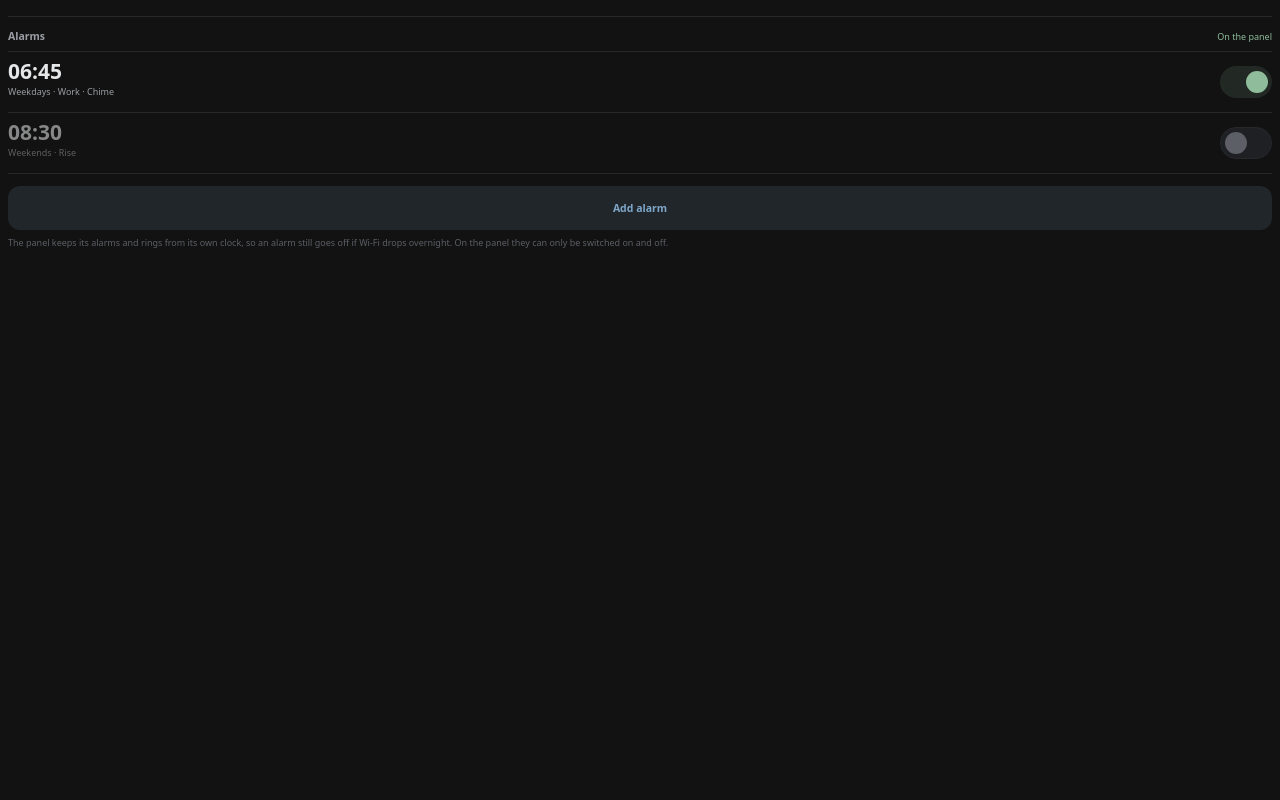
Test: the desk panel's alarms › refuses a label the panel cannot draw before it is sent
The image size is (1280, 800).
Click the button with aria-label "Edit alarm 06:45".
click(35, 71)  # box [8, 60, 1208, 104]
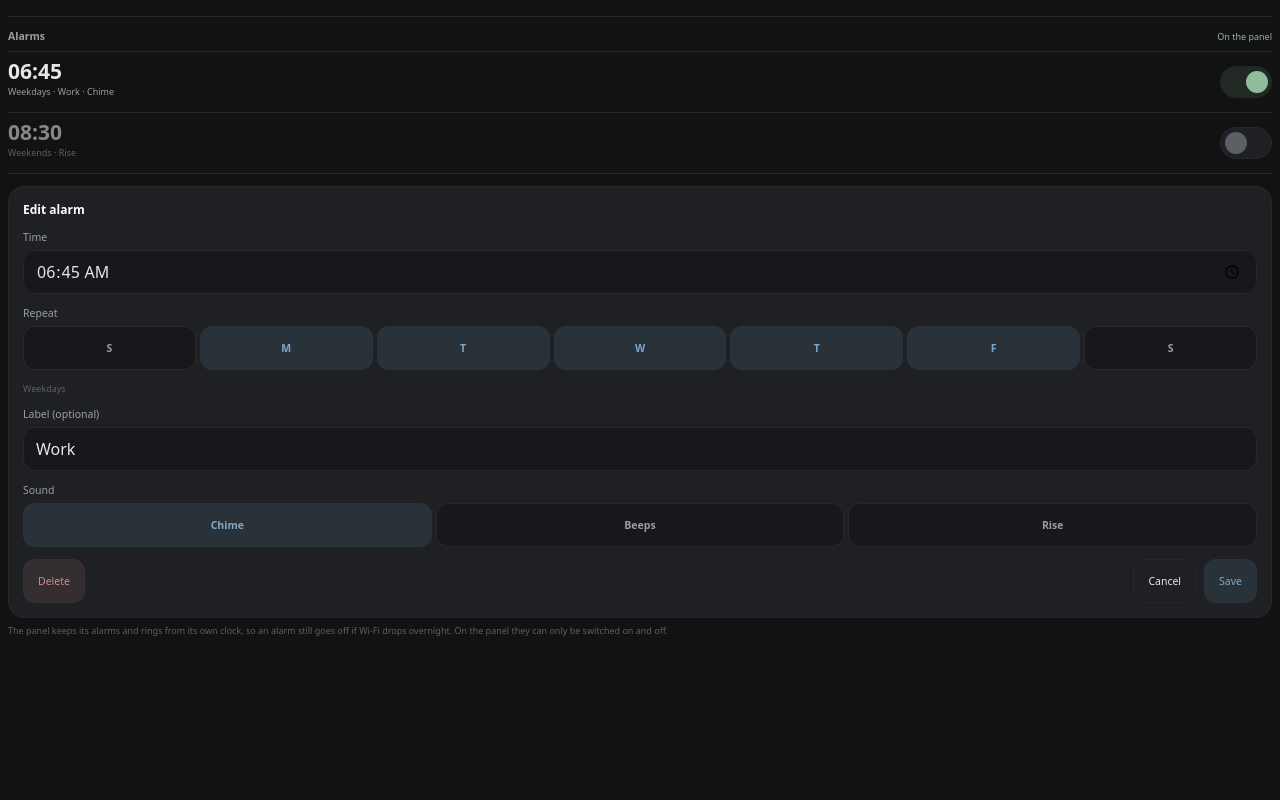
Type "Café" into the field labelled "Label (optional)".
click(640, 449); type("Café")  # box [23, 427, 1257, 471]
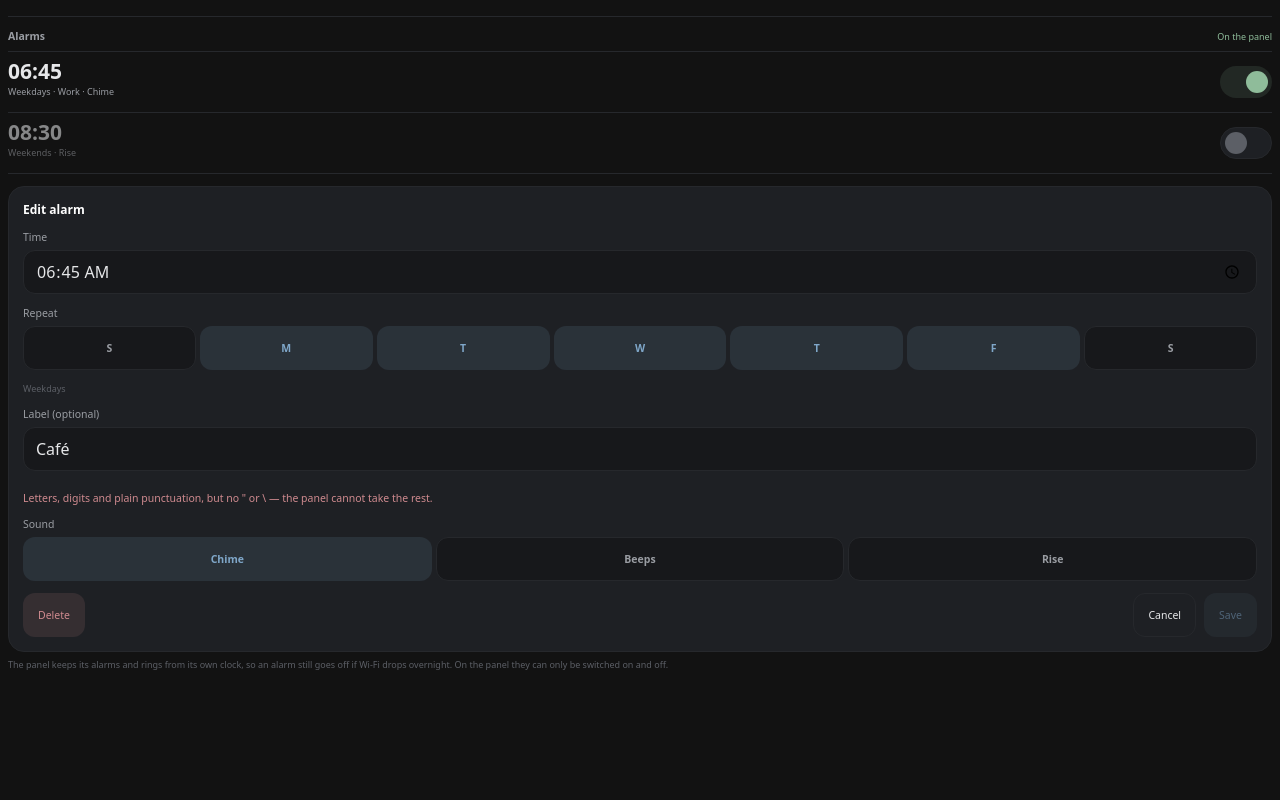
Expected: the text "the panel cannot take the rest" is shown, [23, 491, 433, 505]
Expected: the button "Save" is disabled, [1204, 593, 1257, 637]
Replace the text in the field labelled "Label (optional)" with "say \"hi\"" at {"x": 640, "y": 449}, box [23, 427, 1257, 471]
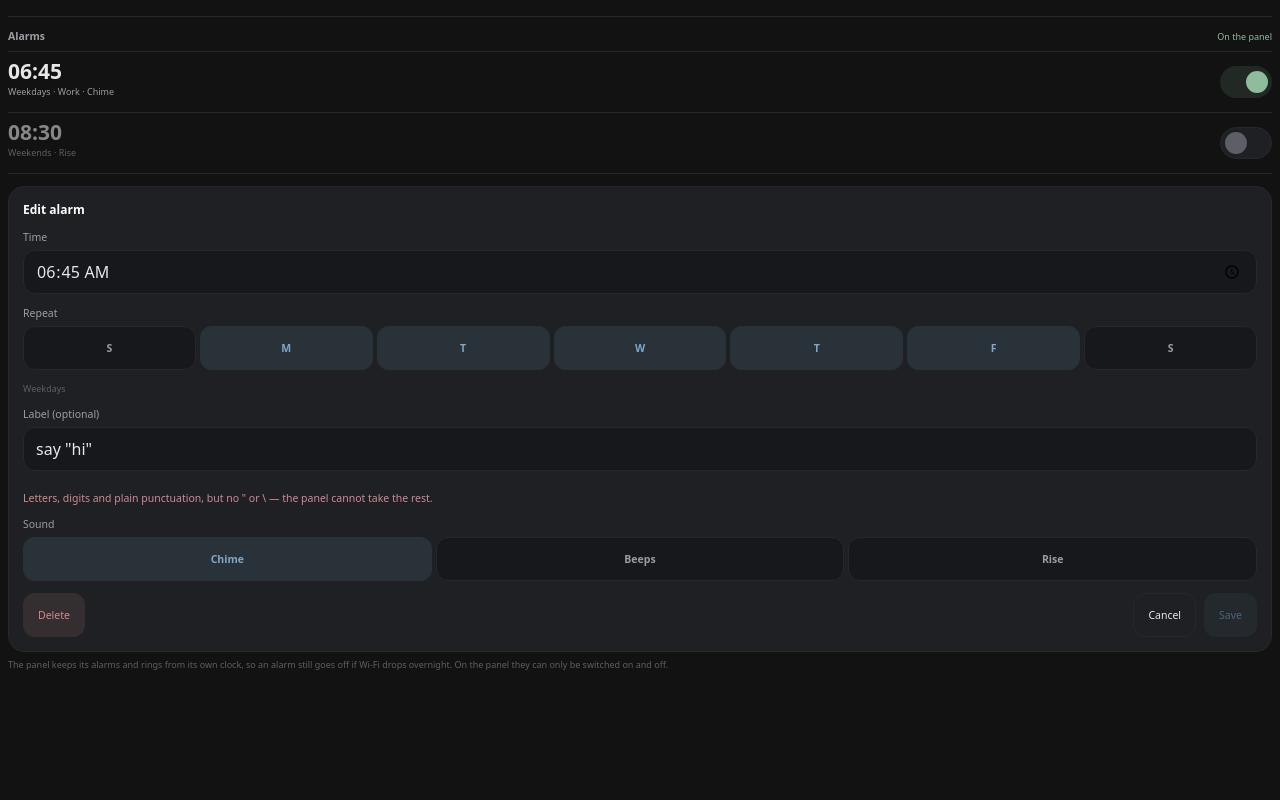
Expected: the text "the panel cannot take the rest" is shown, [23, 491, 433, 505]
Expected: the button "Save" is disabled, [1204, 593, 1257, 637]
Replace the text in the field labelled "Label (optional)" with "back\\slash" at {"x": 640, "y": 449}, box [23, 427, 1257, 471]
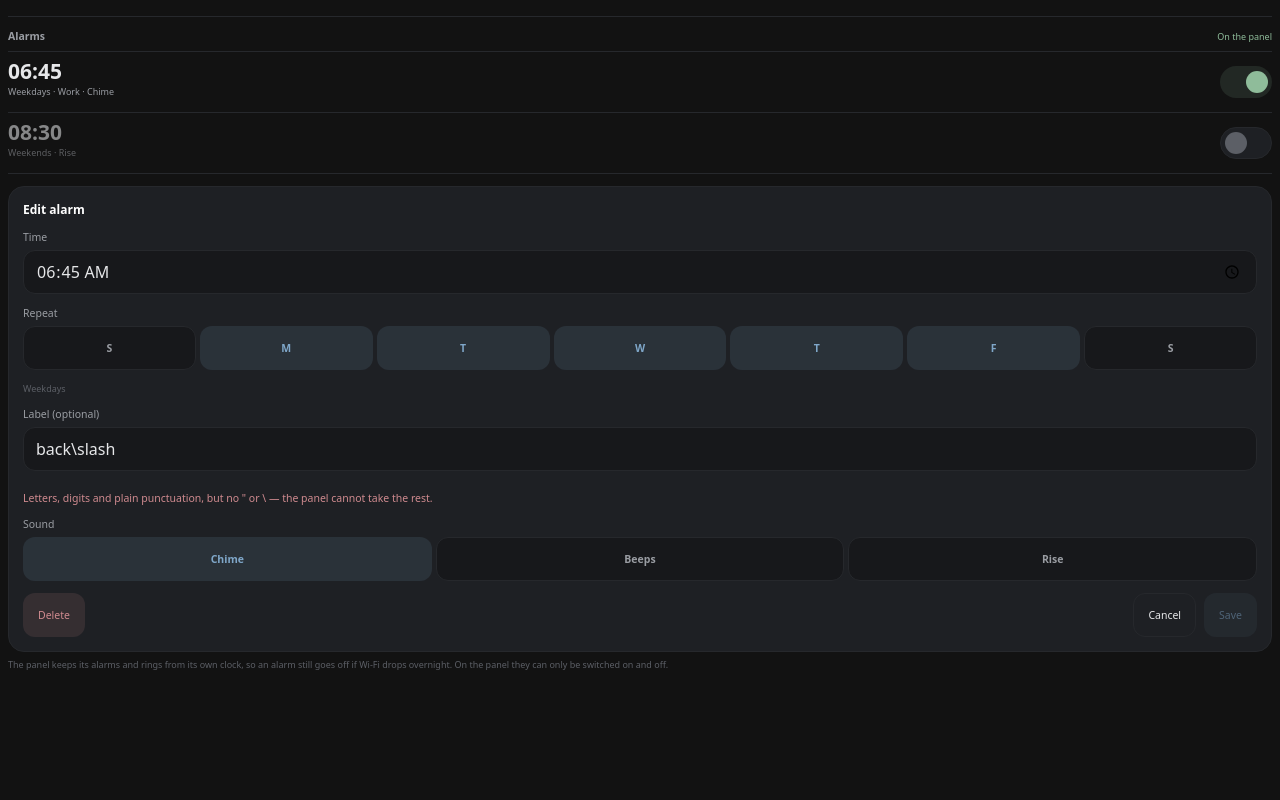
Expected: the text "the panel cannot take the rest" is shown, [23, 491, 433, 505]
Expected: the button "Save" is disabled, [1204, 593, 1257, 637]
Replace the text in the field labelled "Label (optional)" with "Gym [7am] #1 ~ok!" at {"x": 640, "y": 449}, box [23, 427, 1257, 471]
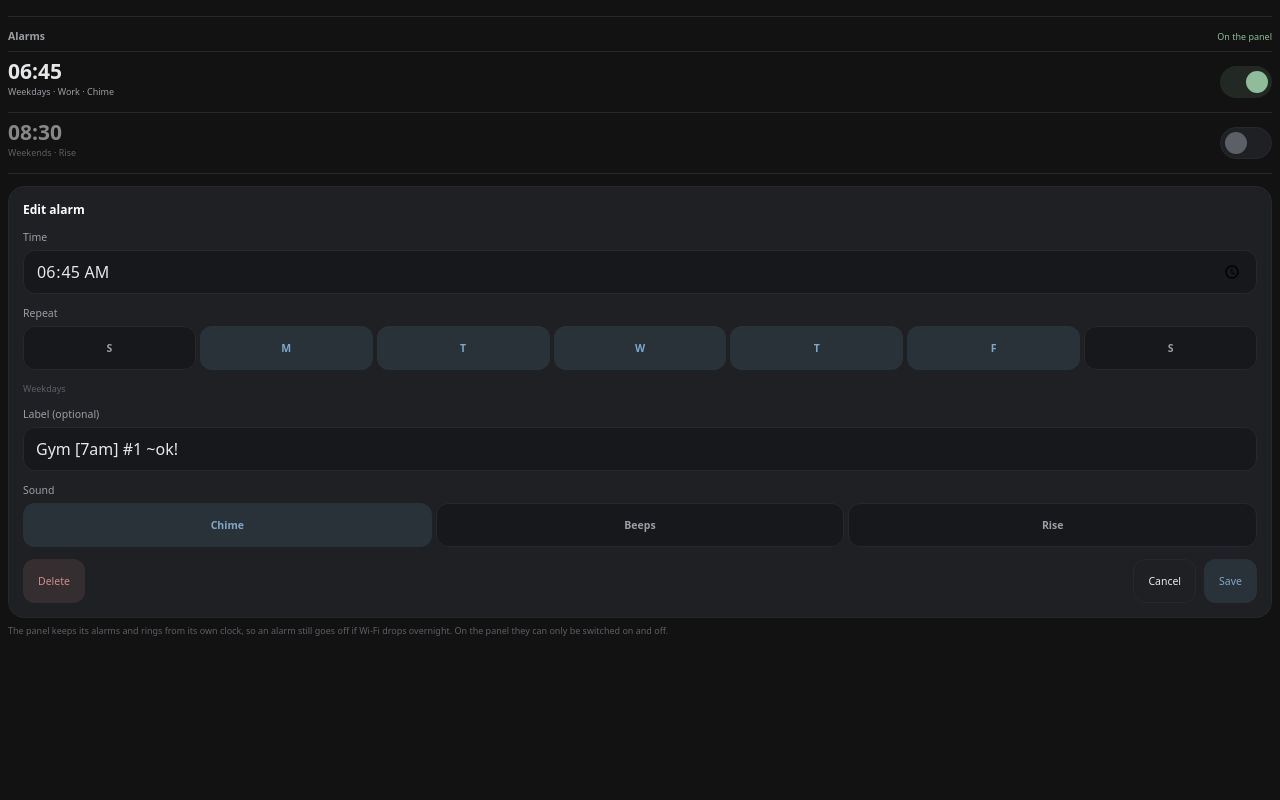
Expected: the text "the panel cannot take the rest" is gone
Expected: the button "Save" is enabled, [1204, 559, 1257, 603]
